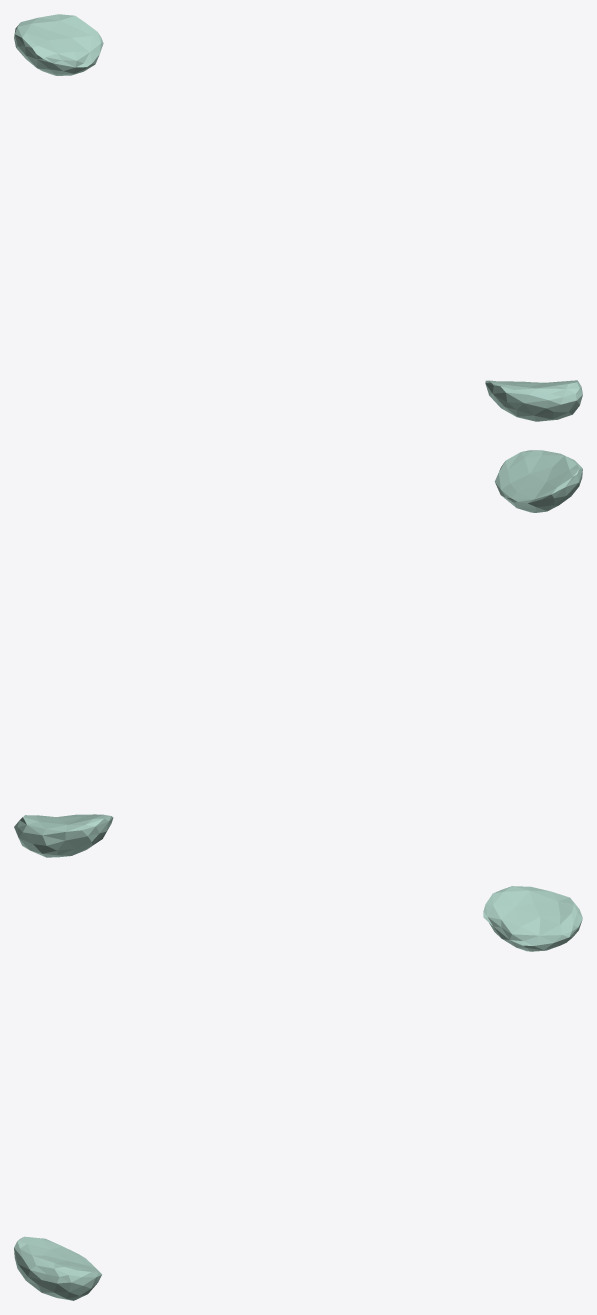
The picture shows the model from 3 angles, top to bottom: view 1: azimuth 30°, elevation 25°; view 2: azimuth 150°, elevation 25°; view 3: azimuth 330°, elevation 25°; orthographic projection.
Parts seen in each view (by area): view 1: 1139.obj; view 2: 1139.obj; view 3: 1139.obj.
Part boxes in pixels (<box>): 1139.obj: <box>14,14,582,421</box>; 1139.obj: <box>14,450,582,857</box>; 1139.obj: <box>14,886,582,1300</box>.
Size of the model in its own units: 430 by 236 by 4694.
